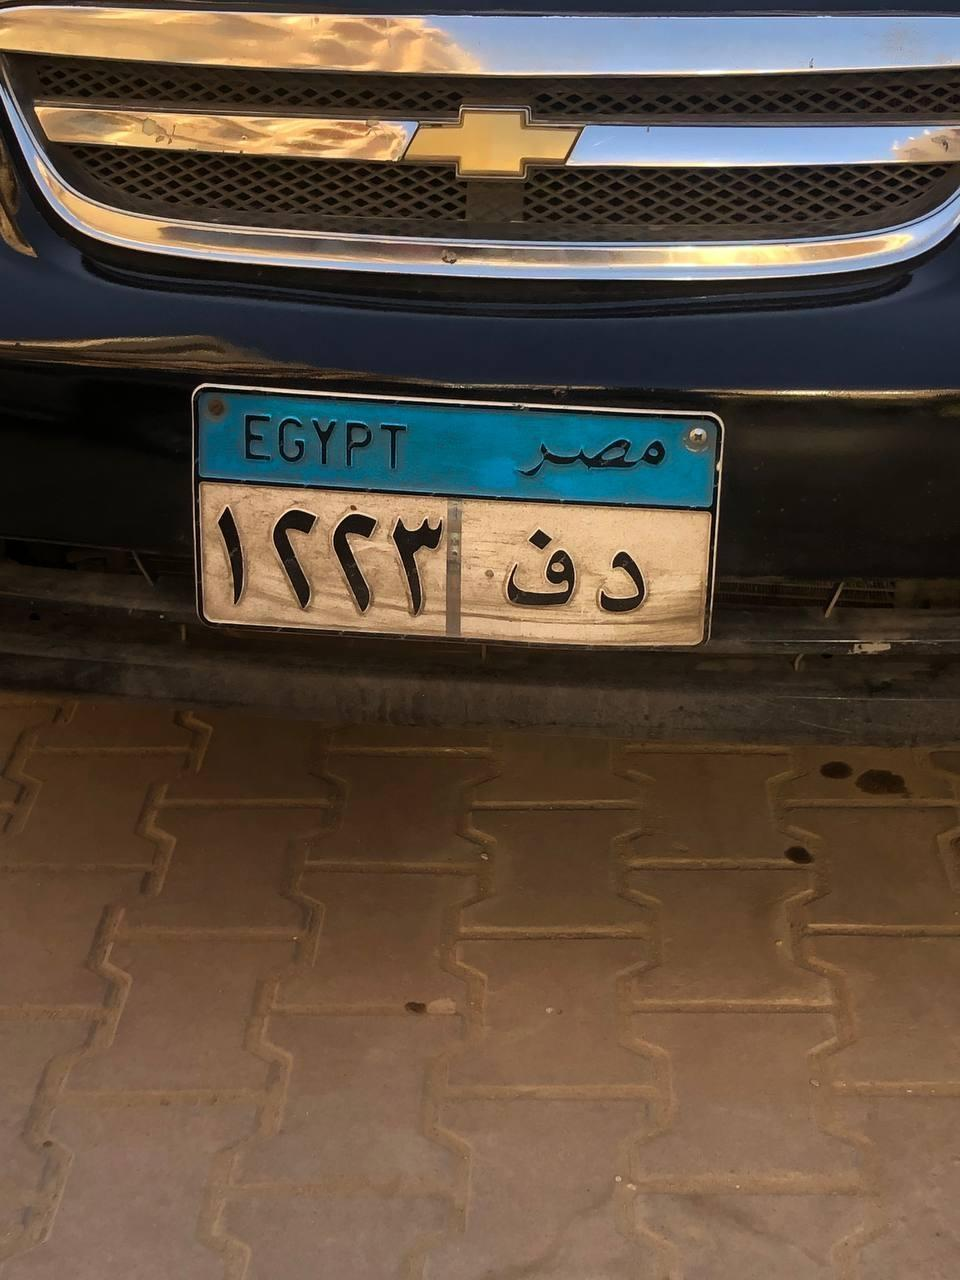1: (210, 502, 254, 606)
2: (329, 506, 388, 618), (268, 502, 320, 618)
3: (390, 510, 446, 620)
F: (494, 518, 582, 610)
License Plate: (189, 382, 726, 651)
daal: (592, 552, 652, 619)
